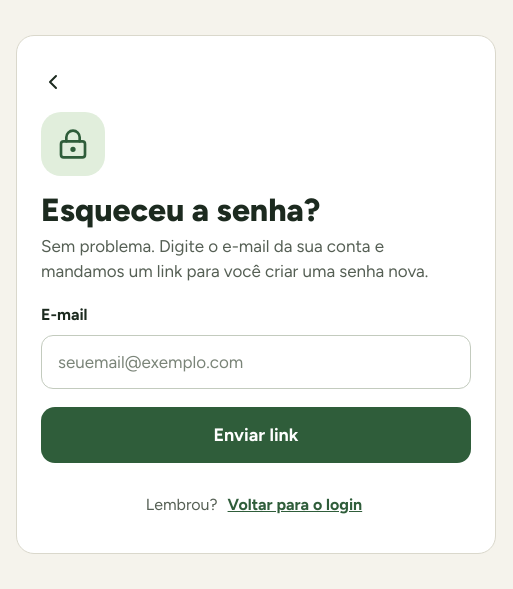
Test case: Esqueci minha senha › manda o link e mostra para qual e-mail foi
The image size is (513, 589).
Expected: the heading "Esqueceu a senha?" is shown, [41,190,320,228]
Type "joao@exemplo.com" into the field labelled "E-mail". click: (256, 362)
box: [41,334,471,388]
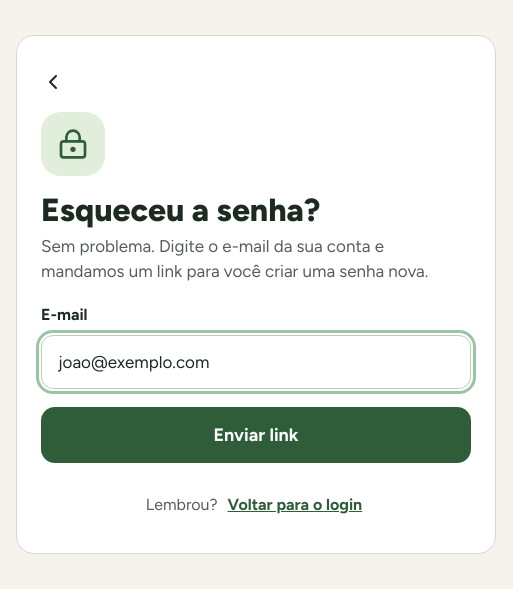
Click the button "Enviar link". click: (256, 434)
box: [41,406,471,462]
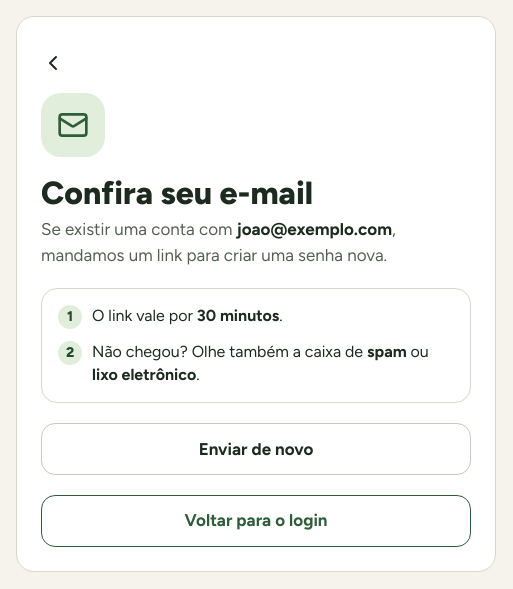
Now the heading "Confira seu e-mail" is shown, box [41,174,313,212]
Now the text "joao@exemplo.com" is shown, box [237,219,392,239]
